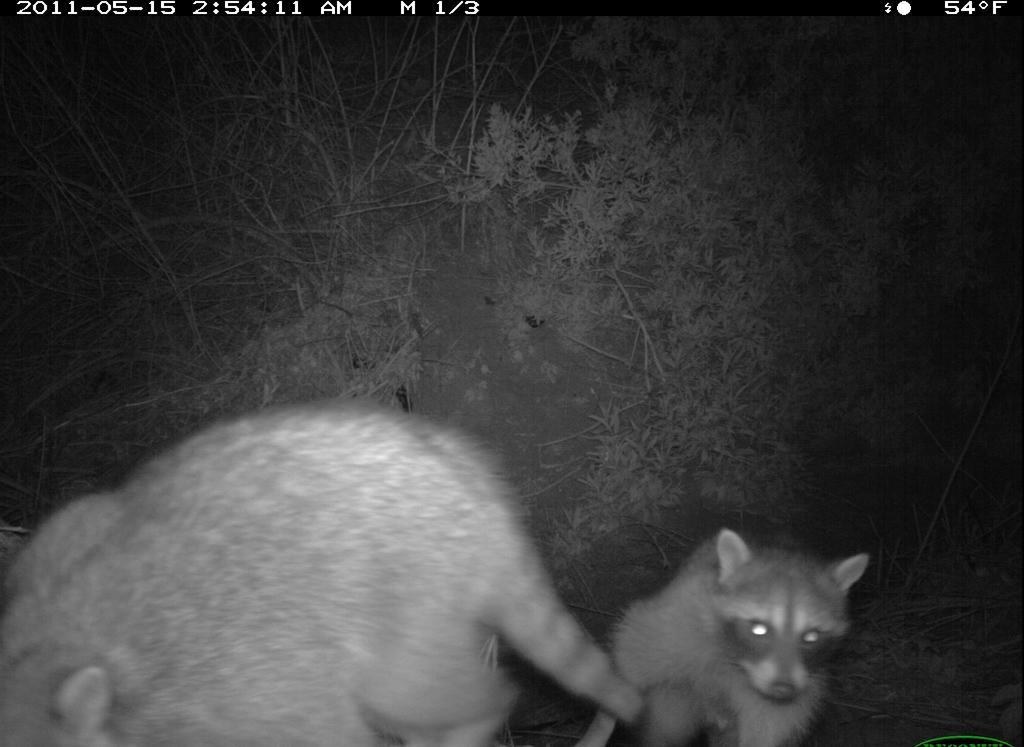raccoon: (7, 379, 666, 747), (571, 511, 879, 747)
